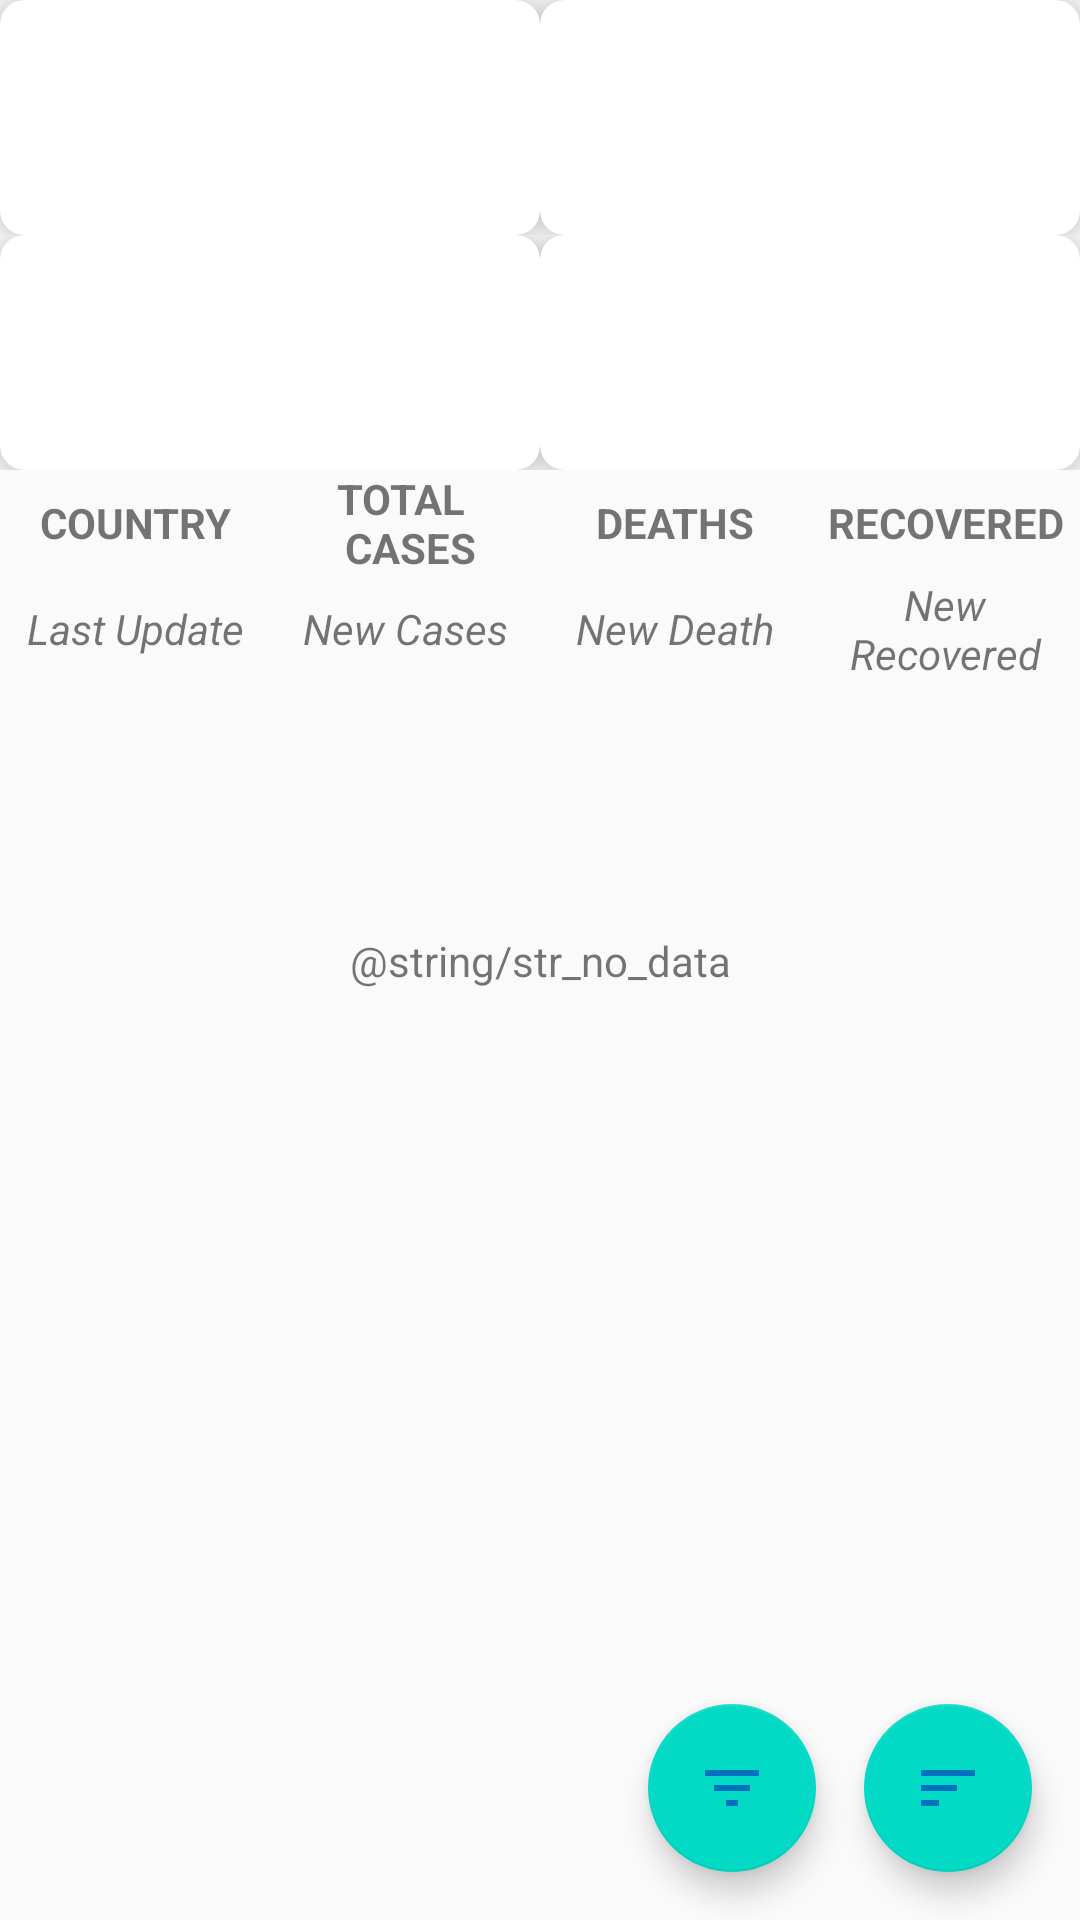

Where to tap for icons on this 1080 x 1920 app screen, as (x=x, y=y):
filter list: (x=732, y=1788)
sort: (x=948, y=1788)
